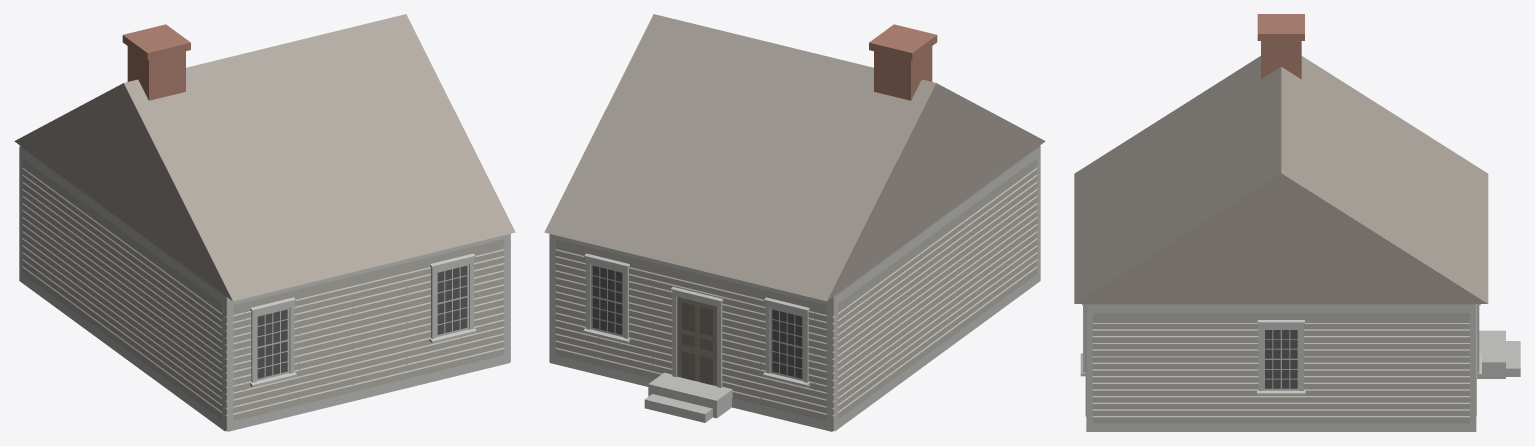
Rendered from recon_1835_north_d4_015__inferred_1835.glb.
3 views of the same model, side by side, from view 1: azimuth 30°, elevation 25°; view 2: azimuth 150°, elevation 25°; view 3: azimuth 270°, elevation 25° (orthographic). The views are drawn at different scales.
Visible parts, largest first — view 1: recon_1835_north_d4_015__inferred_1835; view 2: recon_1835_north_d4_015__inferred_1835; view 3: recon_1835_north_d4_015__inferred_1835.
Part boxes in pixels (left/top/right/bottom): recon_1835_north_d4_015__inferred_1835: left=14, top=14, right=515, bottom=431; recon_1835_north_d4_015__inferred_1835: left=544, top=14, right=1045, bottom=431; recon_1835_north_d4_015__inferred_1835: left=1074, top=14, right=1520, bottom=431.
Bounding box in the file's own units: 6.55 × 6.68 × 9.24.
